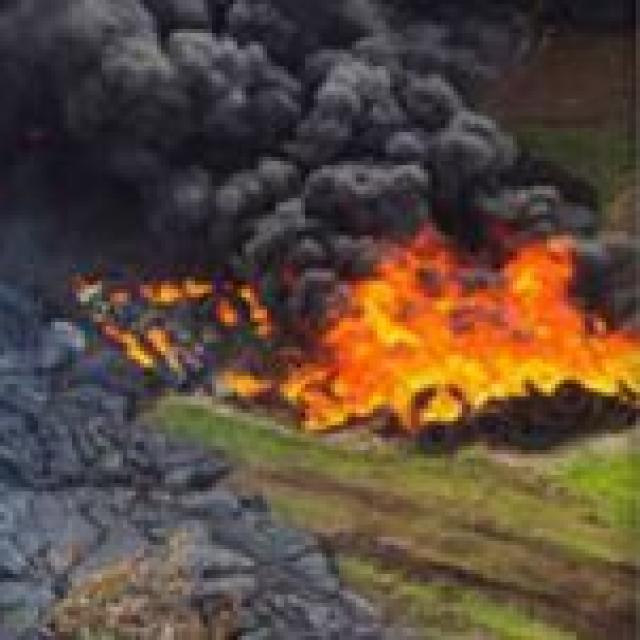Smoke: (0, 0, 610, 332)
